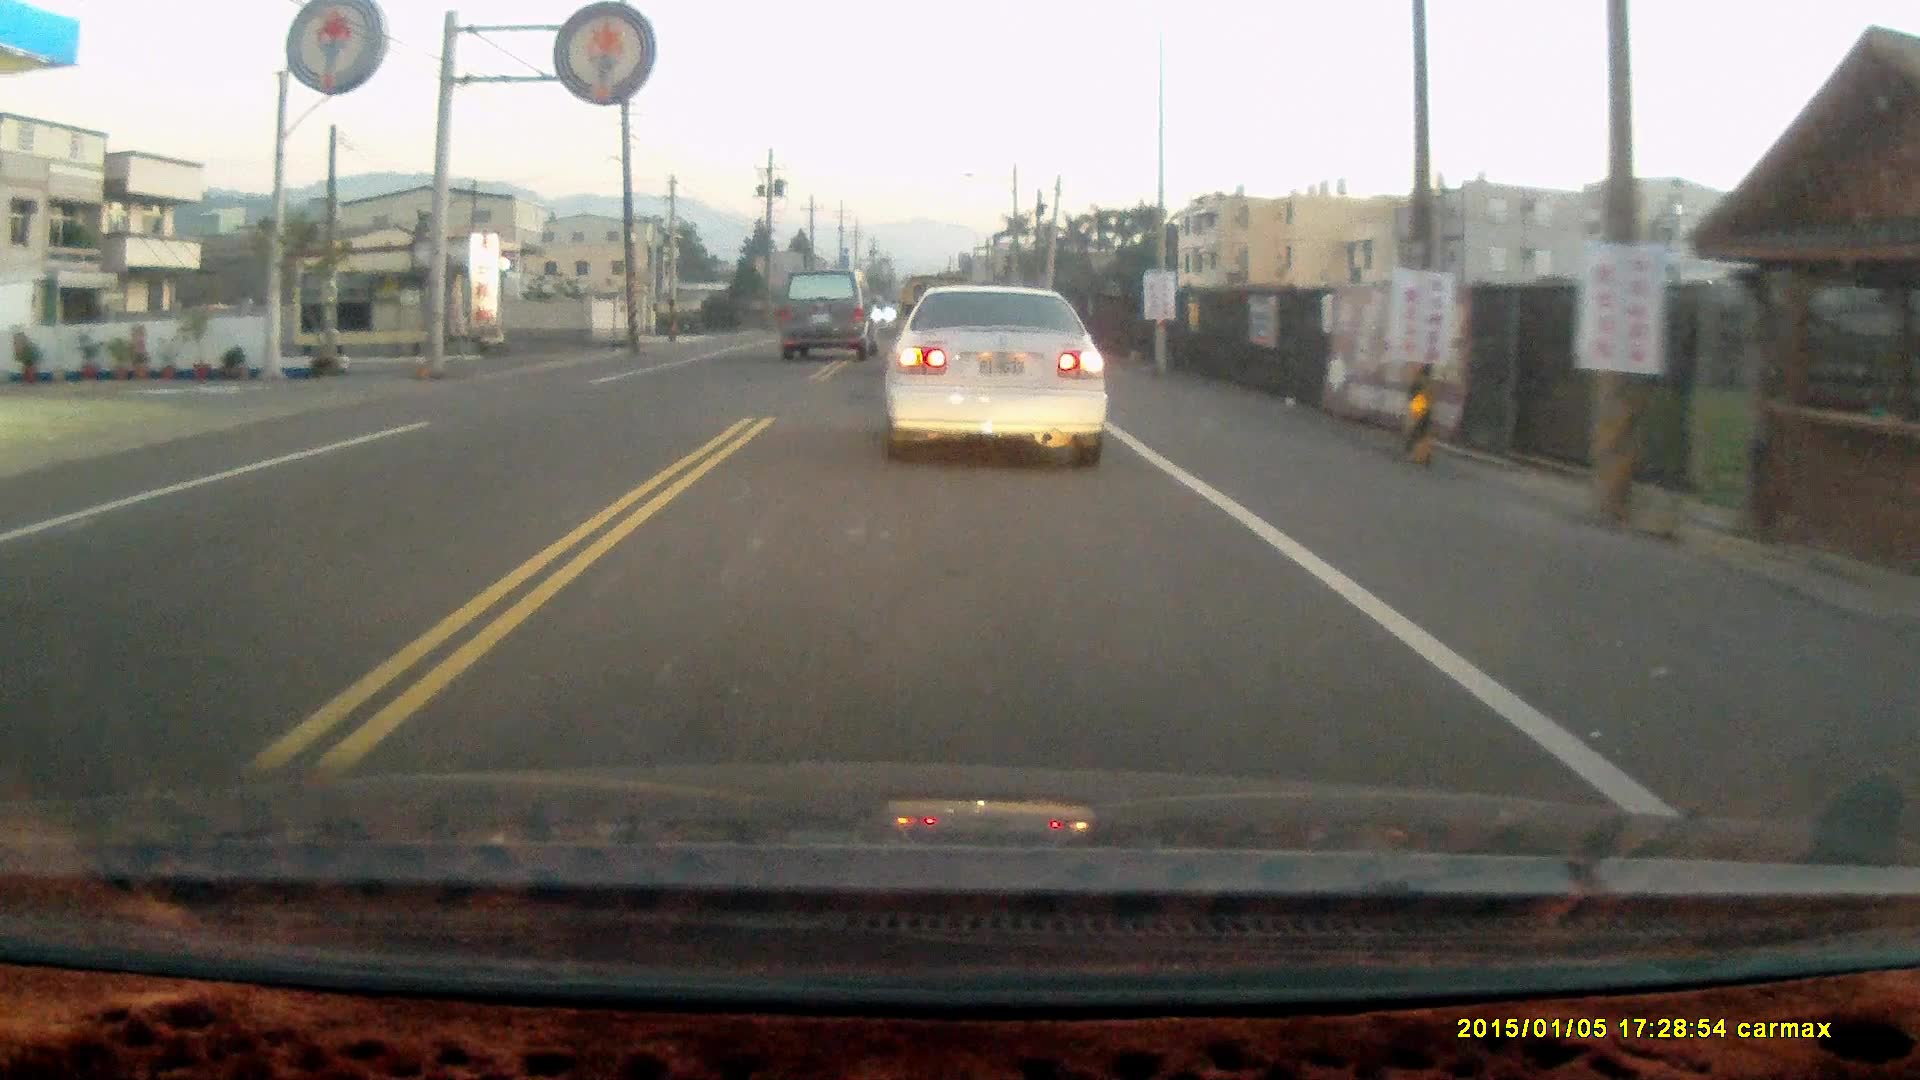vehicle: (878, 285, 1114, 475), (771, 272, 882, 371)
